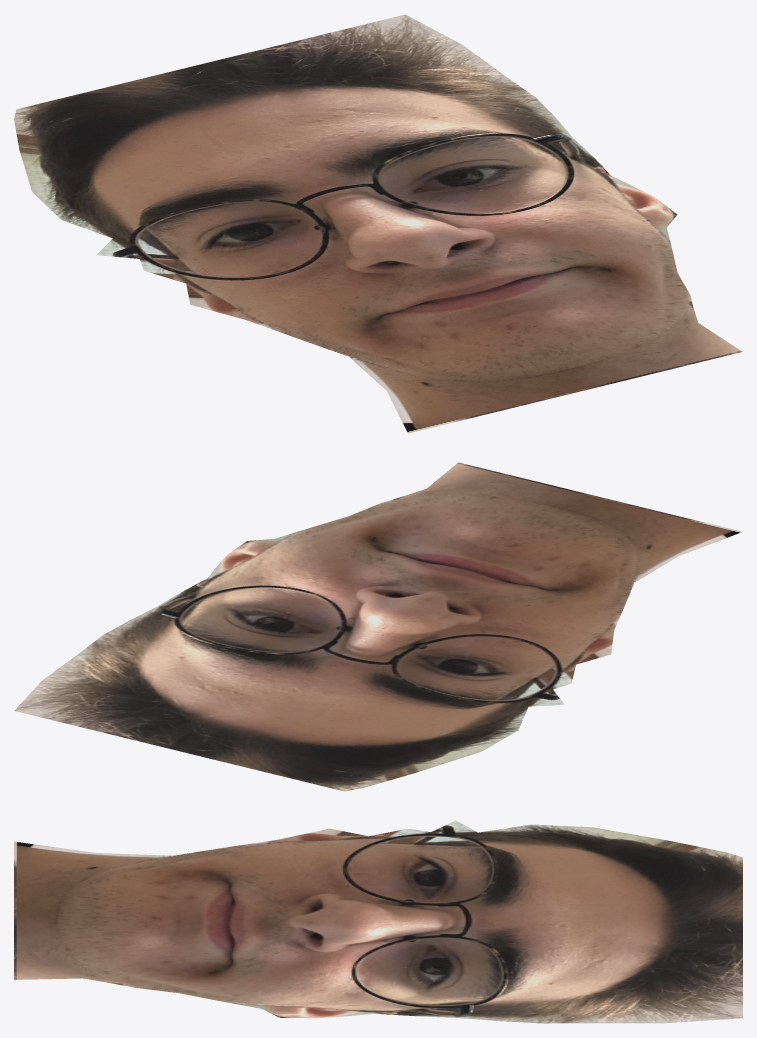
Rendered from Vittor.gltf.
3 views of the same model, one above another, from view 1: azimuth 30°, elevation 25°; view 2: azimuth 150°, elevation 25°; view 3: azimuth 270°, elevation 25° (orthographic). The views are drawn at different scales.
Visible parts, largest first — view 1: Plane; view 2: Plane; view 3: Plane.
Boxes of the visible parts, x1=… form: Plane: x1=14, y1=14, x2=742, y2=433; Plane: x1=14, y1=462, x2=742, y2=791; Plane: x1=14, y1=820, x2=742, y2=1023.
Size of the model in its own units: 1.32 by 0 by 2.
1 material, 1 textured.
